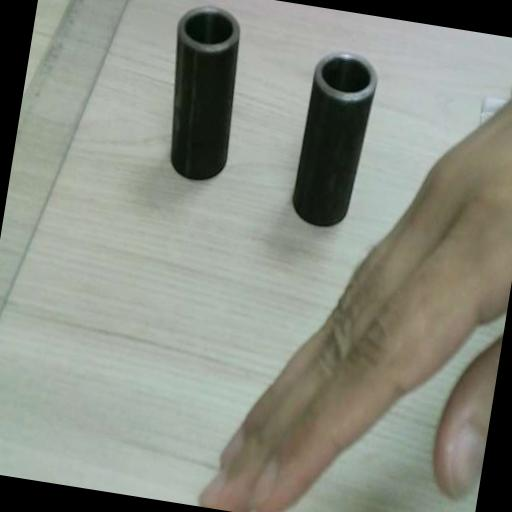peca: (292, 51, 377, 224), (171, 5, 239, 178)
